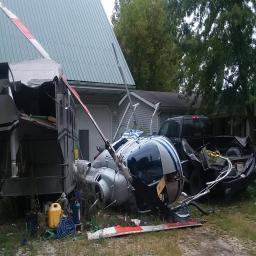helicopter: (76, 83, 193, 217)
